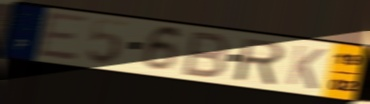5: (84, 16, 133, 68)
6: (137, 24, 187, 75)
B: (179, 30, 233, 80)
E: (34, 10, 91, 63)
K: (284, 43, 329, 92)
R: (235, 36, 287, 88)
